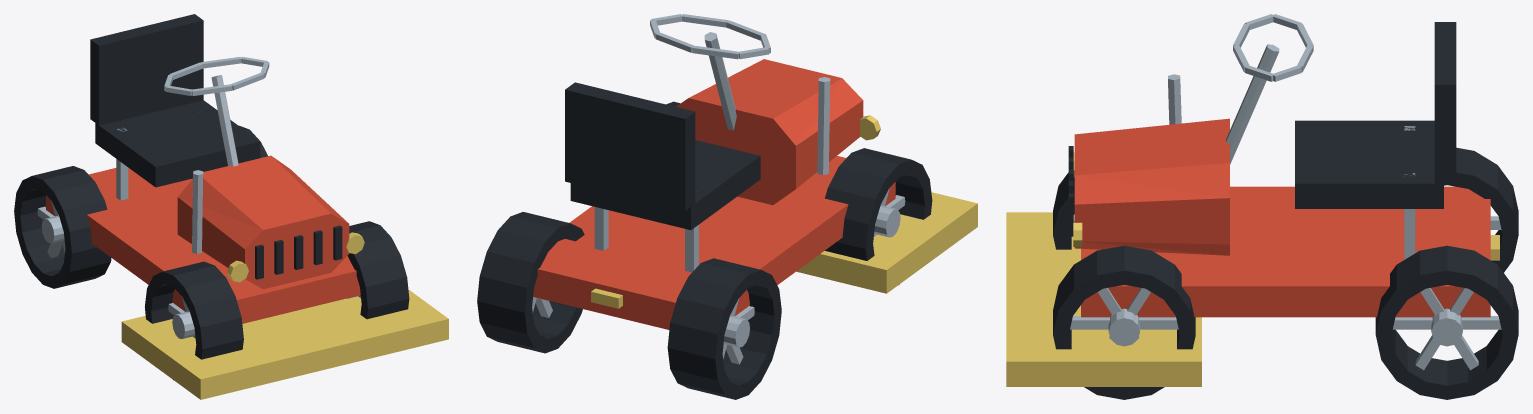
The model's file is lawnmower.glb.
3 views of the same model, side by side, from view 1: azimuth 30°, elevation 25°; view 2: azimuth 150°, elevation 25°; view 3: azimuth 270°, elevation 25° (orthographic). The views are drawn at different scales.
Parts seen in each view (by area): view 1: bike_body, wheel_rear_r, wheel_front_r, wheel_front_l, fork_mesh; view 2: bike_body, wheel_rear_r, wheel_rear_l, wheel_front_r, fork_mesh; view 3: bike_body, wheel_rear_l, wheel_front_l, wheel_rear_r, fork_mesh, wheel_front_r.
Part boxes in pixels (left/top/right/bottom): bike_body: left=46, top=14, right=448, bottom=399; wheel_rear_r: left=14, top=166, right=111, bottom=288; wheel_front_r: left=145, top=261, right=243, bottom=380; wheel_front_l: left=347, top=221, right=409, bottom=319; fork_mesh: left=164, top=57, right=269, bottom=166; bike_body: left=533, top=59, right=977, bottom=329; wheel_rear_r: left=667, top=258, right=781, bottom=399; wheel_rear_l: left=477, top=212, right=584, bottom=353; wheel_front_r: left=825, top=148, right=932, bottom=285; fork_mesh: left=650, top=14, right=770, bottom=130; bike_body: left=1006, top=22, right=1499, bottom=386; wheel_rear_l: left=1375, top=245, right=1518, bottom=399; wheel_front_l: left=1053, top=245, right=1195, bottom=399; wheel_rear_r: left=1444, top=147, right=1518, bottom=272; fork_mesh: left=1226, top=14, right=1313, bottom=164; wheel_front_r: left=1053, top=172, right=1074, bottom=249.
Size of the model in its own units: 1.14 by 1.04 by 1.65.
